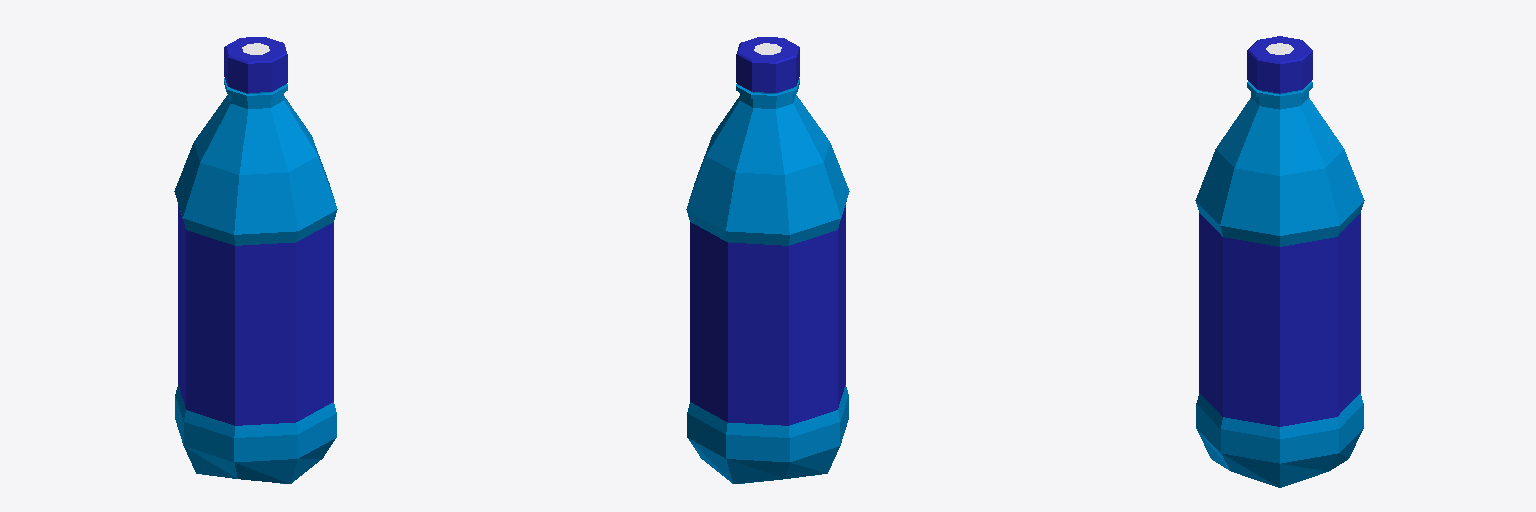
Rendered from AguaVariante.obj.
3 renders of one model, left to right at view 1: azimuth 30°, elevation 25°; view 2: azimuth 150°, elevation 25°; view 3: azimuth 270°, elevation 25°, orthographic.
Parts seen in each view (by area): view 1: Circle.002; view 2: Circle.002; view 3: Circle.002.
Boxes of the visible parts, <box> form: Circle.002: <box>174,37,337,483</box>; Circle.002: <box>686,37,849,483</box>; Circle.002: <box>1195,36,1364,487</box>.
Size of the model in its own units: 3.69 by 9.95 by 3.69.